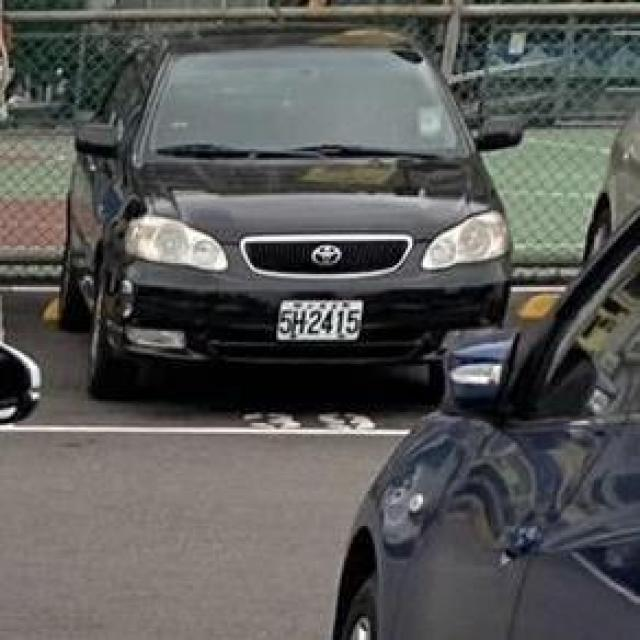W: (268, 285, 370, 353)
